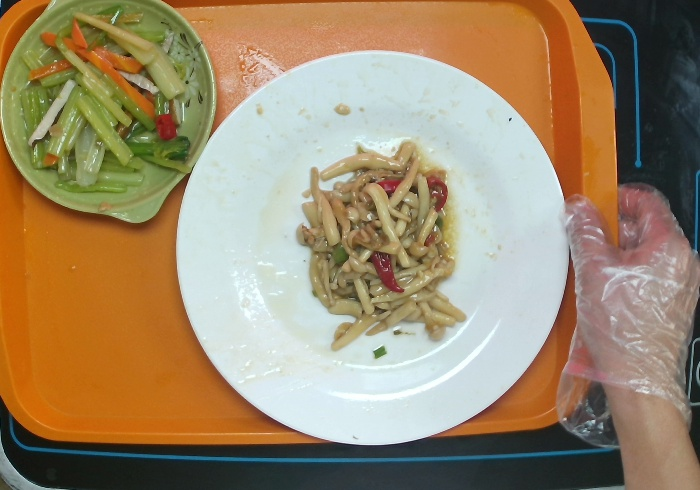NLDX-Da_Yuan_Pan: (174, 46, 575, 449)
NLDX-Lv_Hua_Shuang_Er_Die: (1, 1, 219, 228)
